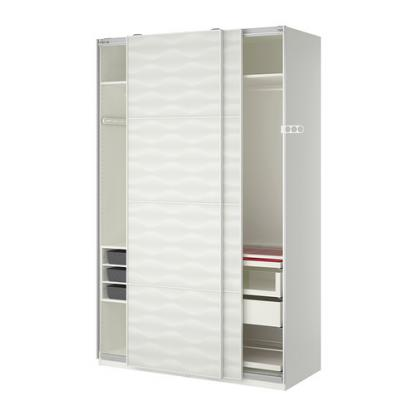Cabinet: (92, 22, 324, 395)
